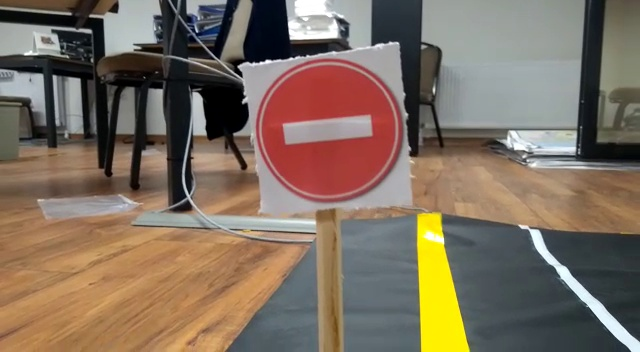girisi_olmayan_yol: (252, 53, 399, 212)
